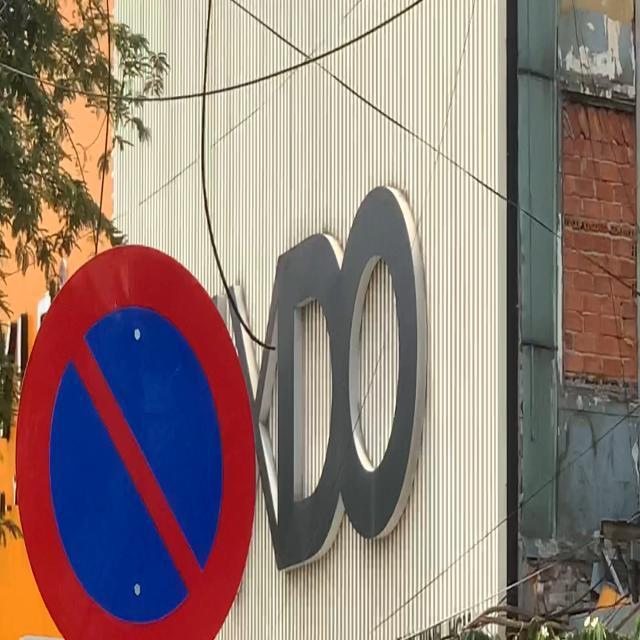131a-cam-do-xe: (10, 245, 258, 640)
